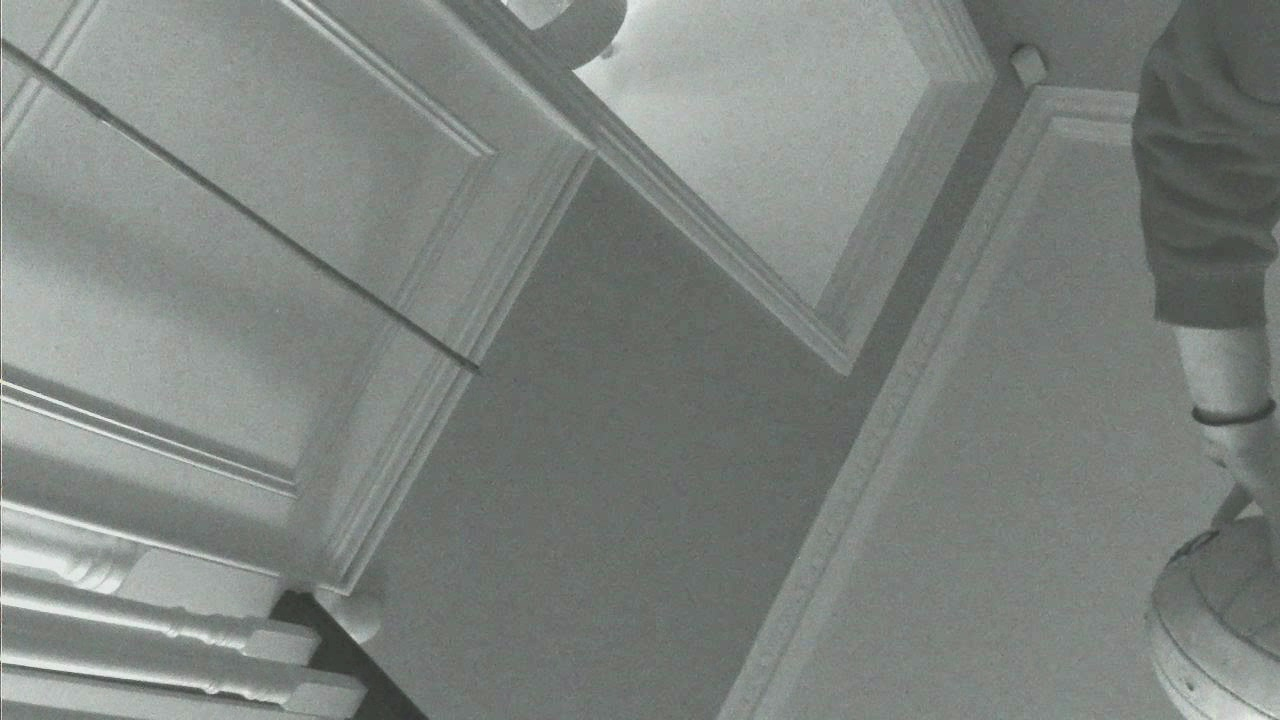Football-Spotter: (1148, 517, 1279, 719)
